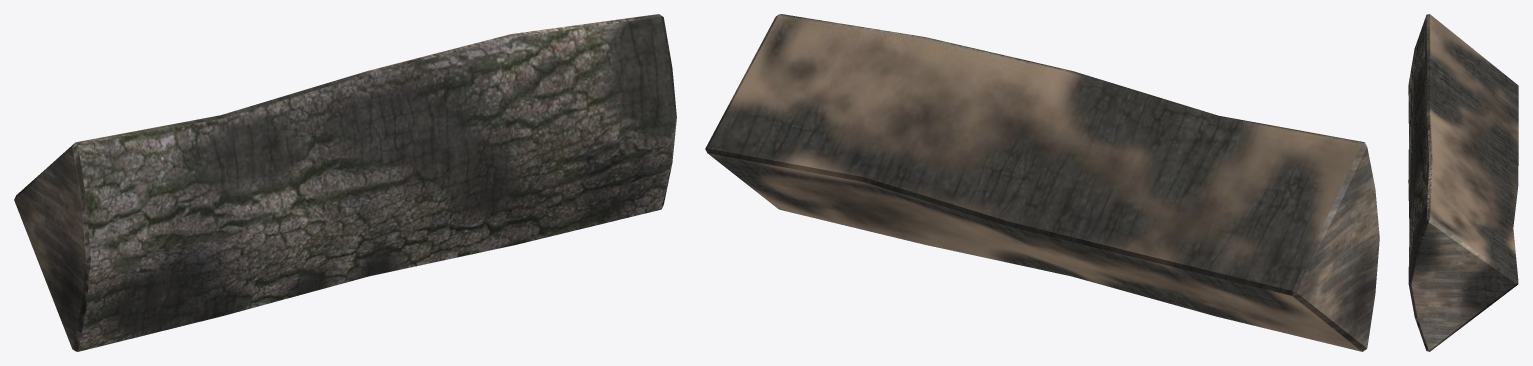
The model's file is SM_SplitLog.glb.
The picture shows the model from 3 angles, left to right: view 1: azimuth 30°, elevation 25°; view 2: azimuth 150°, elevation 25°; view 3: azimuth 270°, elevation 25°; orthographic projection. The views are drawn at different scales.
Visible parts, largest first — view 1: SM_SplitLog; view 2: SM_SplitLog; view 3: SM_SplitLog.
Boxes of the visible parts, bbox=[...] form: SM_SplitLog: bbox=[14, 14, 676, 351]; SM_SplitLog: bbox=[705, 14, 1379, 351]; SM_SplitLog: bbox=[1408, 14, 1518, 351].
Size of the model in its own units: 0.8117 by 0.2713 by 0.1894.
Materials: 1 (1 with a texture image).
